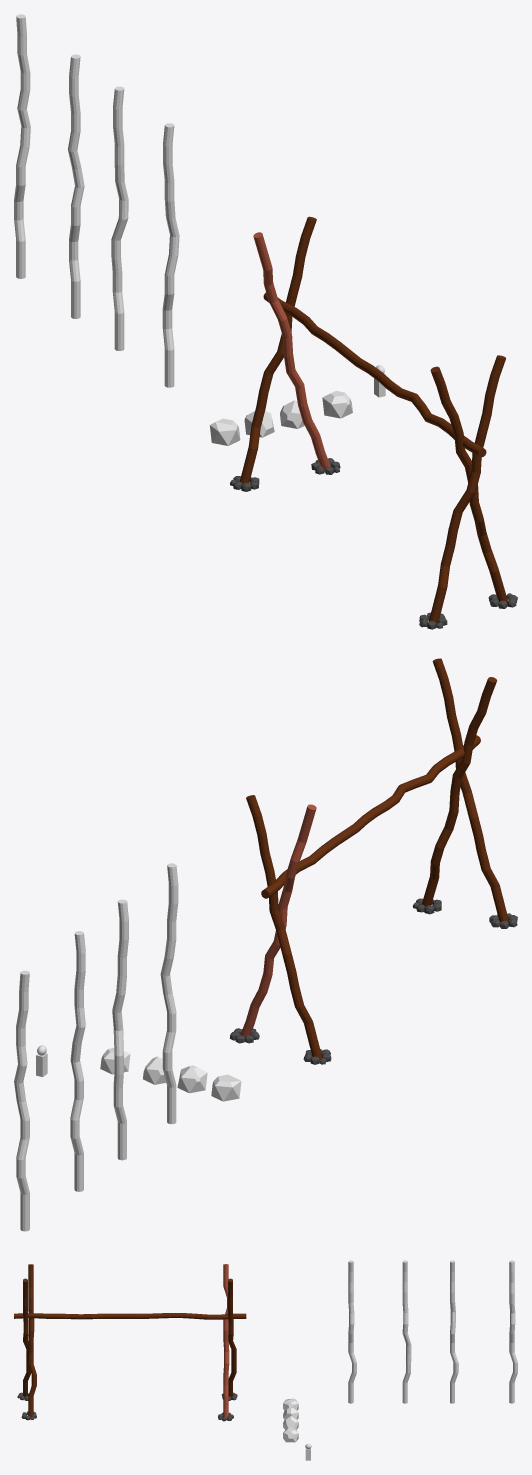
Rendered from hangingrack 1.fbx.
3 renders of one model, top to bottom at view 1: azimuth 30°, elevation 25°; view 2: azimuth 150°, elevation 25°; view 3: azimuth 270°, elevation 25°, orthographic. The views are drawn at different scales.
Visible parts, largest first — view 1: Cylinder, Cylinder.001, Cylinder.005, Cylinder.003, Cylinder.002, Cylinder.008, Cylinder.006, Cylinder.007, Cylinder.004, Icosphere.001; view 2: Cylinder, Cylinder.007, Cylinder.003, Cylinder.001, Cylinder.002, Cylinder.005, Cylinder.006, Cylinder.004, Cylinder.008, Icosphere.002, Icosphere.001; view 3: Cylinder.006, Cylinder.004, Cylinder.003, Cylinder, Cylinder.001, Cylinder.002, Cylinder.008, Cylinder.007, Cylinder.005.
Boxes of the visible parts, left/top/right/bottom form: Cylinder: left=162, top=123, right=179, bottom=387; Cylinder.001: left=111, top=86, right=128, bottom=350; Cylinder.005: left=428, top=355, right=505, bottom=624; Cylinder.003: left=14, top=14, right=30, bottom=278; Cylinder.002: left=68, top=54, right=84, bottom=318; Cylinder.008: left=253, top=232, right=330, bottom=470; Cylinder.006: left=263, top=292, right=486, bottom=457; Cylinder.007: left=239, top=216, right=316, bottom=483; Cylinder.004: left=430, top=366, right=507, bottom=602; Icosphere.001: left=209, top=418, right=240, bottom=445; Cylinder: left=160, top=863, right=178, bottom=1124; Cylinder.007: left=246, top=795, right=322, bottom=1060; Cylinder.003: left=14, top=970, right=29, bottom=1231; Cylinder.001: left=112, top=899, right=128, bottom=1160; Cylinder.002: left=70, top=931, right=85, bottom=1191; Cylinder.005: left=432, top=658, right=508, bottom=921; Cylinder.006: left=261, top=735, right=480, bottom=898; Cylinder.004: left=422, top=677, right=497, bottom=912; Cylinder.008: left=240, top=804, right=316, bottom=1037; Icosphere.002: left=177, top=1065, right=207, bottom=1093; Icosphere.001: left=211, top=1074, right=241, bottom=1101; Cylinder.006: left=14, top=1313, right=246, bottom=1319; Cylinder.004: left=28, top=1264, right=36, bottom=1417; Cylinder.003: left=509, top=1260, right=517, bottom=1403; Cylinder: left=348, top=1260, right=356, bottom=1403; Cylinder.001: left=402, top=1260, right=411, bottom=1403; Cylinder.002: left=450, top=1260, right=458, bottom=1403; Cylinder.008: left=223, top=1264, right=229, bottom=1417; Cylinder.007: left=228, top=1278, right=236, bottom=1398; Cylinder.005: left=23, top=1278, right=31, bottom=1396.
Bounding box in the file's own units: 4141 × 4980 × 14860.
